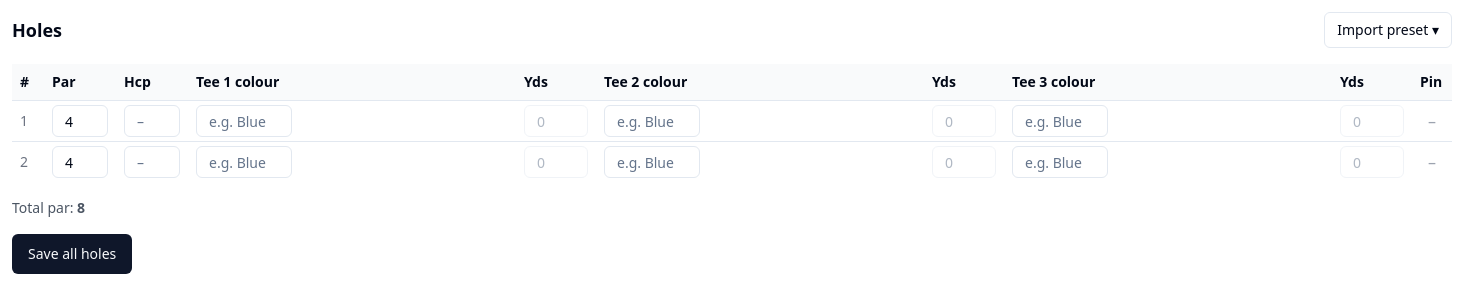
Scenario: HoleEditor › hides preset dropdown after selecting a preset
Click the button "Import preset ▾".
click(1388, 30)  # box [1324, 12, 1452, 48]
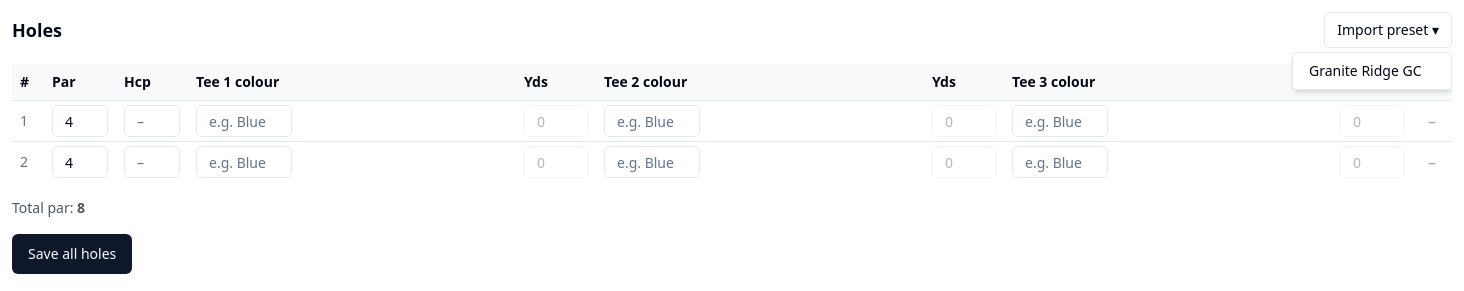
Expected: the button "Granite Ridge GC" is shown
Click the button "Granite Ridge GC".
click(1372, 71)  # box [1293, 53, 1451, 89]
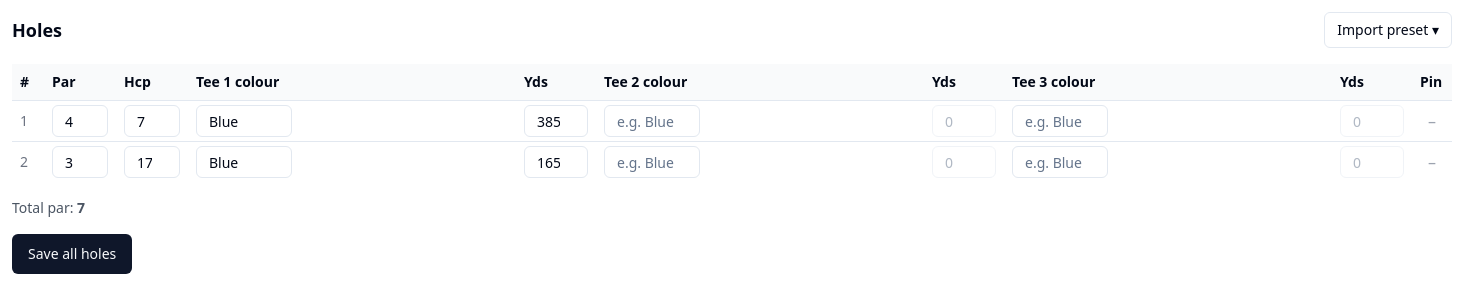
Expected: the button "Granite Ridge GC" is gone
